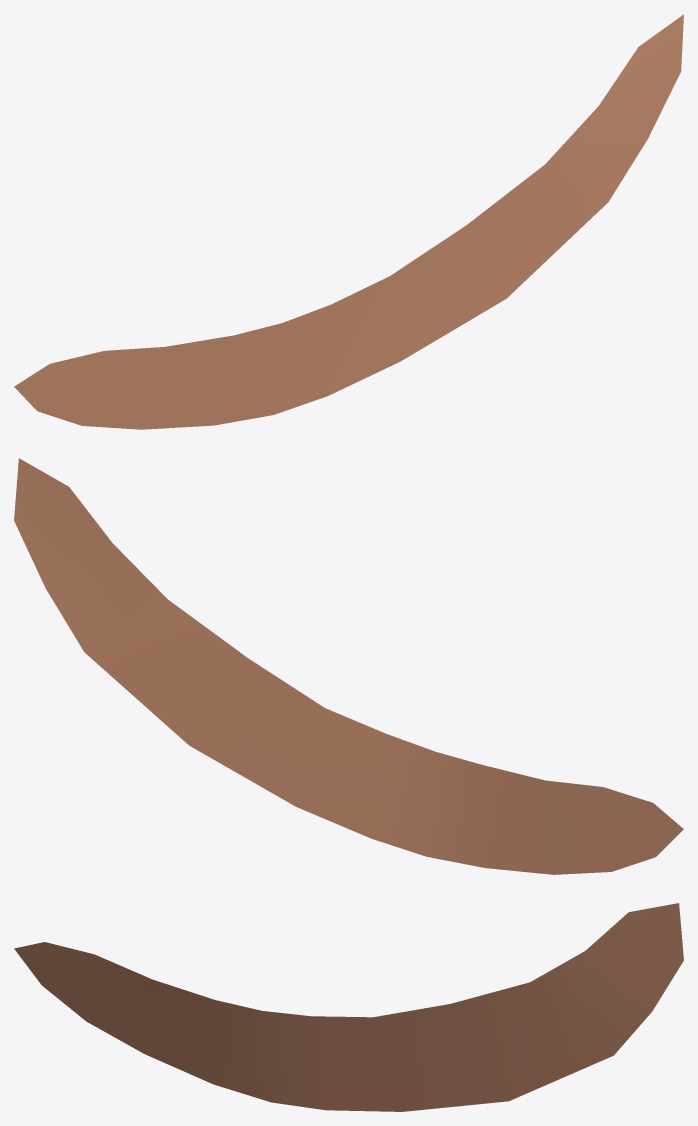
The model's file is lips_3.fbx.
3 renders of one model, top to bottom at view 1: azimuth 30°, elevation 25°; view 2: azimuth 150°, elevation 25°; view 3: azimuth 330°, elevation 25°, orthographic.
Parts seen in each view (by area): view 1: lips_3; view 2: lips_3; view 3: lips_3.
Part boxes in pixels (box(x1,y1,x2,y2)): lips_3: box(14, 14, 683, 429); lips_3: box(14, 458, 683, 874); lips_3: box(14, 903, 683, 1111).
Size of the model in its own units: 7.03 by 3.01 by 0.2537.
